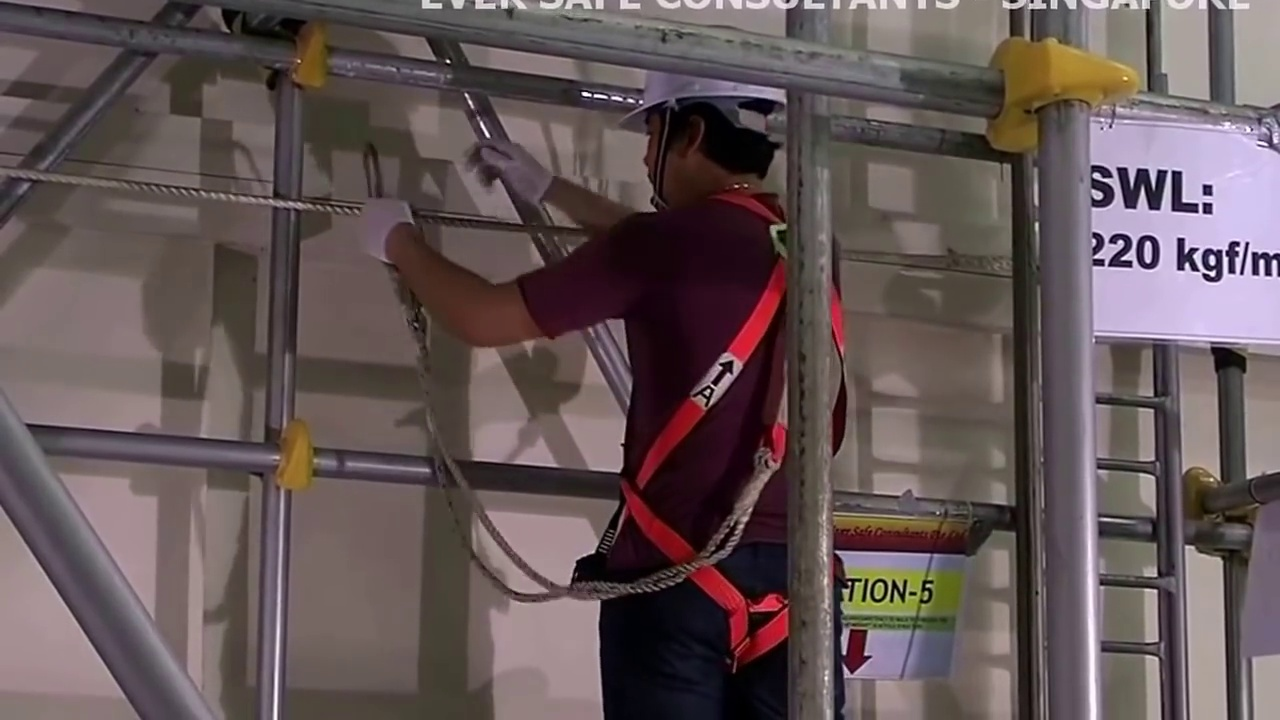harness: (676, 206, 789, 661)
helmet: (630, 79, 784, 109)
leash: (405, 374, 566, 615)
